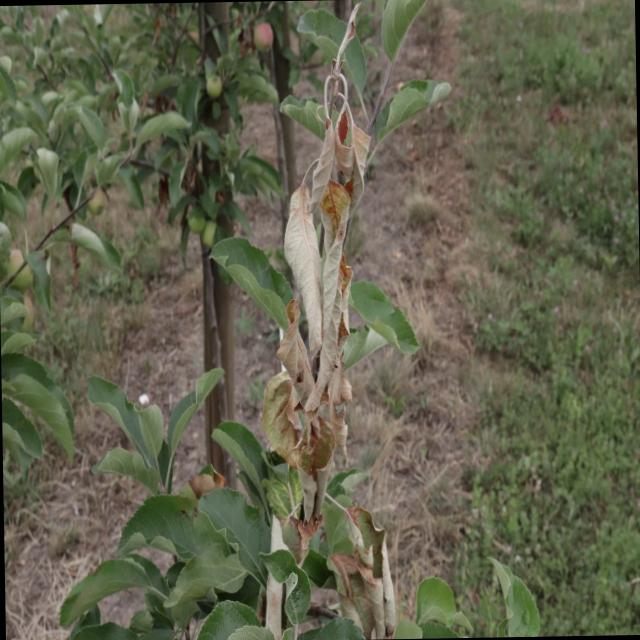-FireBlight-: (272, 67, 378, 524)
